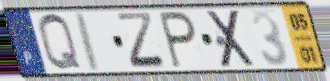3: (251, 8, 289, 68)
I: (75, 11, 103, 74)
P: (157, 10, 198, 71)
Q: (37, 11, 85, 73)
X: (205, 8, 258, 70)
Z: (114, 11, 170, 70)
